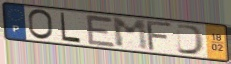D: (175, 23, 207, 57)
E: (84, 13, 118, 49)
F: (146, 20, 175, 52)
L: (60, 11, 83, 45)
M: (110, 17, 151, 52)
O: (27, 8, 55, 42)
